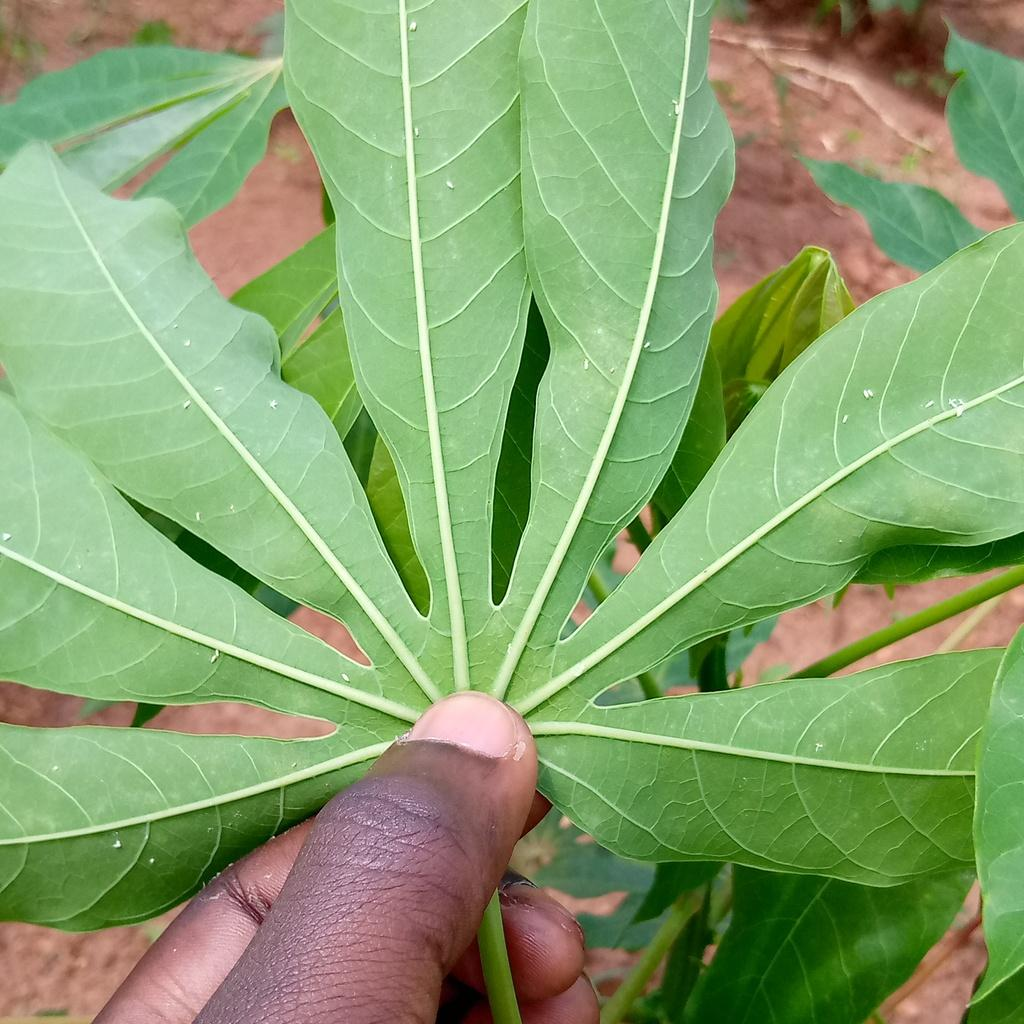adult: (924, 400, 935, 409), (112, 839, 121, 849), (268, 400, 278, 409), (955, 408, 964, 418), (948, 398, 957, 408), (505, 643, 513, 654), (445, 180, 454, 189), (341, 673, 350, 682), (814, 742, 823, 751), (409, 21, 417, 31), (183, 400, 191, 409), (2, 533, 11, 541), (414, 126, 420, 137), (643, 341, 651, 349), (583, 360, 589, 370), (842, 414, 848, 424), (195, 511, 201, 521), (210, 655, 217, 663), (214, 386, 223, 392), (867, 389, 873, 398), (863, 390, 869, 399), (675, 104, 679, 115), (184, 340, 190, 347), (52, 765, 59, 771), (149, 857, 155, 864), (229, 504, 235, 511), (671, 99, 678, 105), (291, 762, 297, 768), (958, 399, 964, 405), (216, 649, 219, 658), (610, 367, 614, 373)
